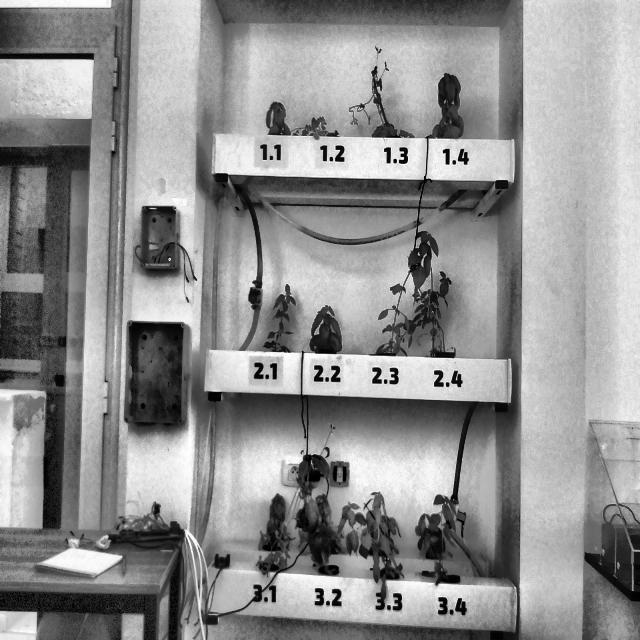plants: (368, 231, 445, 355), (294, 450, 339, 577), (344, 46, 398, 138), (404, 262, 454, 358), (349, 492, 398, 582), (420, 496, 460, 586), (367, 284, 414, 356), (423, 73, 461, 138), (264, 284, 300, 352), (259, 532, 297, 572), (312, 306, 340, 352), (418, 513, 444, 559), (266, 495, 286, 546), (296, 116, 339, 138), (266, 101, 289, 136)
